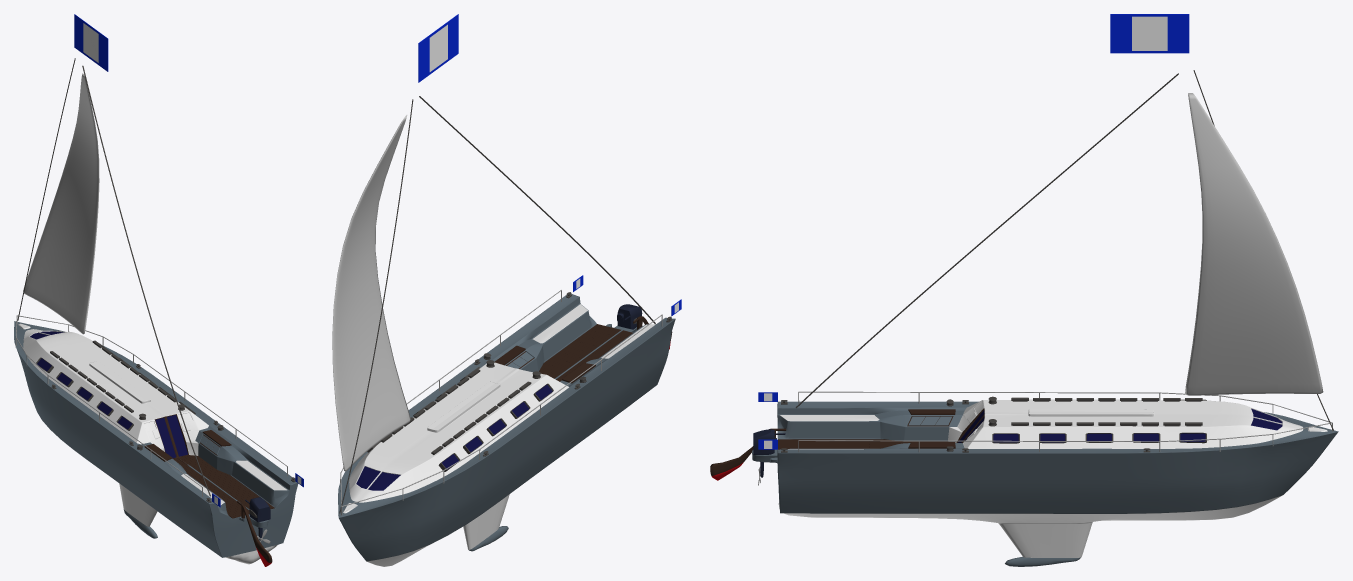
File: kuba_boat_base.glb
3 renders of one model, left to right at view 1: azimuth 30°, elevation 25°; view 2: azimuth 150°, elevation 25°; view 3: azimuth 270°, elevation 25°, orthographic. The views are drawn at different scales.
Visible parts, largest first — view 1: Pokład.001, Maszt.001, Podloga, Flagi, Relingi, Okna, NurbsPath.001, Cube, Silnik, Flagi.001, ster, NurbsPath; view 2: Pokład.001, Maszt.001, Podloga, Flagi, Okna, Relingi, Cube, NurbsPath, Flagi.001, NurbsPath.001, Silnik; view 3: Pokład.001, Maszt.001, Flagi, Relingi, Okna, Cube, Flagi.002, Podloga, NurbsPath.001.
Part boxes in pixels (x1=…): Pokład.001: x1=14, y1=321, x2=298, y2=564; Maszt.001: x1=23, y1=73, x2=99, y2=334; Podloga: x1=173, y1=455, x2=274, y2=518; Flagi: x1=74, y1=14, x2=303, y2=507; Relingi: x1=15, y1=315, x2=287, y2=496; Okna: x1=36, y1=344, x2=195, y2=430; NurbsPath.001: x1=82, y1=65, x2=210, y2=496; Cube: x1=50, y1=340, x2=176, y2=412; Silnik: x1=245, y1=497, x2=270, y2=540; Flagi.001: x1=83, y1=23, x2=98, y2=62; ster: x1=237, y1=501, x2=272, y2=566; NurbsPath: x1=17, y1=58, x2=75, y2=320; Pokład.001: x1=338, y1=293, x2=675, y2=566; Maszt.001: x1=332, y1=115, x2=410, y2=471; Podloga: x1=539, y1=324, x2=632, y2=381; Flagi: x1=418, y1=14, x2=681, y2=316; Okna: x1=367, y1=367, x2=553, y2=471; Relingi: x1=340, y1=290, x2=662, y2=515; Cube: x1=380, y1=369, x2=531, y2=454; NurbsPath: x1=339, y1=99, x2=413, y2=513; Flagi.001: x1=429, y1=24, x2=447, y2=71; NurbsPath.001: x1=419, y1=96, x2=655, y2=323; Silnik: x1=617, y1=304, x2=642, y2=329; Pokład.001: x1=752, y1=399, x2=1338, y2=566; Maszt.001: x1=1185, y1=93, x2=1323, y2=395; Flagi: x1=758, y1=14, x2=1189, y2=449; Relingi: x1=798, y1=391, x2=1332, y2=452; Okna: x1=992, y1=399, x2=1206, y2=443; Cube: x1=1011, y1=397, x2=1202, y2=426; Flagi.002: x1=1132, y1=16, x2=1167, y2=50; Podloga: x1=778, y1=439, x2=947, y2=449; NurbsPath.001: x1=795, y1=73, x2=1178, y2=407.
Bounding box in the file's own units: 2.38 × 11.87 × 12.29.
